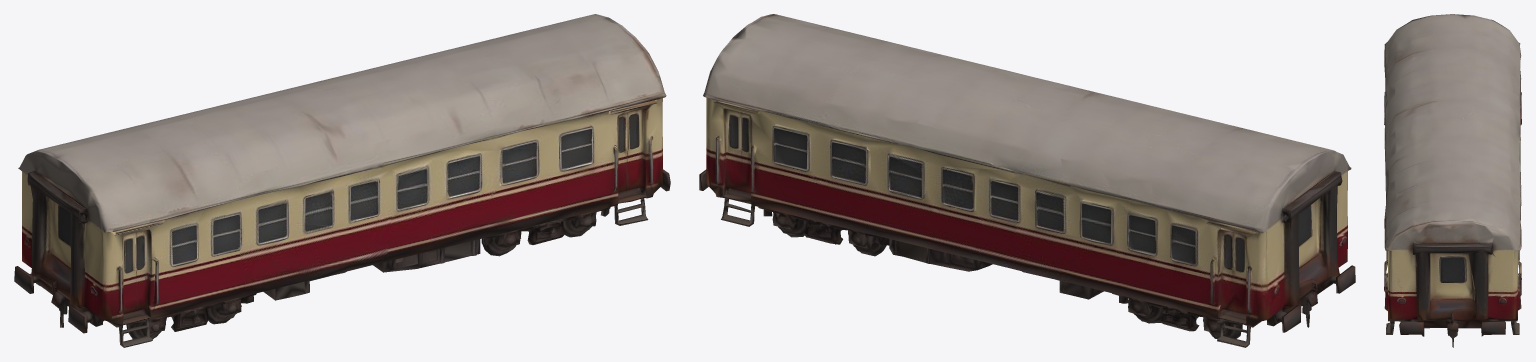
Rendered from train_carriage.glb.
The picture shows the model from 3 angles, left to right: view 1: azimuth 30°, elevation 25°; view 2: azimuth 150°, elevation 25°; view 3: azimuth 270°, elevation 25°; orthographic projection. The views are drawn at different scales.
Visible parts, largest first — view 1: tripo_node_0b98609d-bfbd-4d60-bb92-5663a7424278; view 2: tripo_node_0b98609d-bfbd-4d60-bb92-5663a7424278; view 3: tripo_node_0b98609d-bfbd-4d60-bb92-5663a7424278.
Boxes of the visible parts, bbox=[...] form: tripo_node_0b98609d-bfbd-4d60-bb92-5663a7424278: bbox=[14, 14, 670, 347]; tripo_node_0b98609d-bfbd-4d60-bb92-5663a7424278: bbox=[699, 14, 1355, 347]; tripo_node_0b98609d-bfbd-4d60-bb92-5663a7424278: bbox=[1384, 14, 1521, 347].
Size of the model in its own units: 1 by 0.2946 by 0.266.
Materials: 1 (1 with a texture image).
